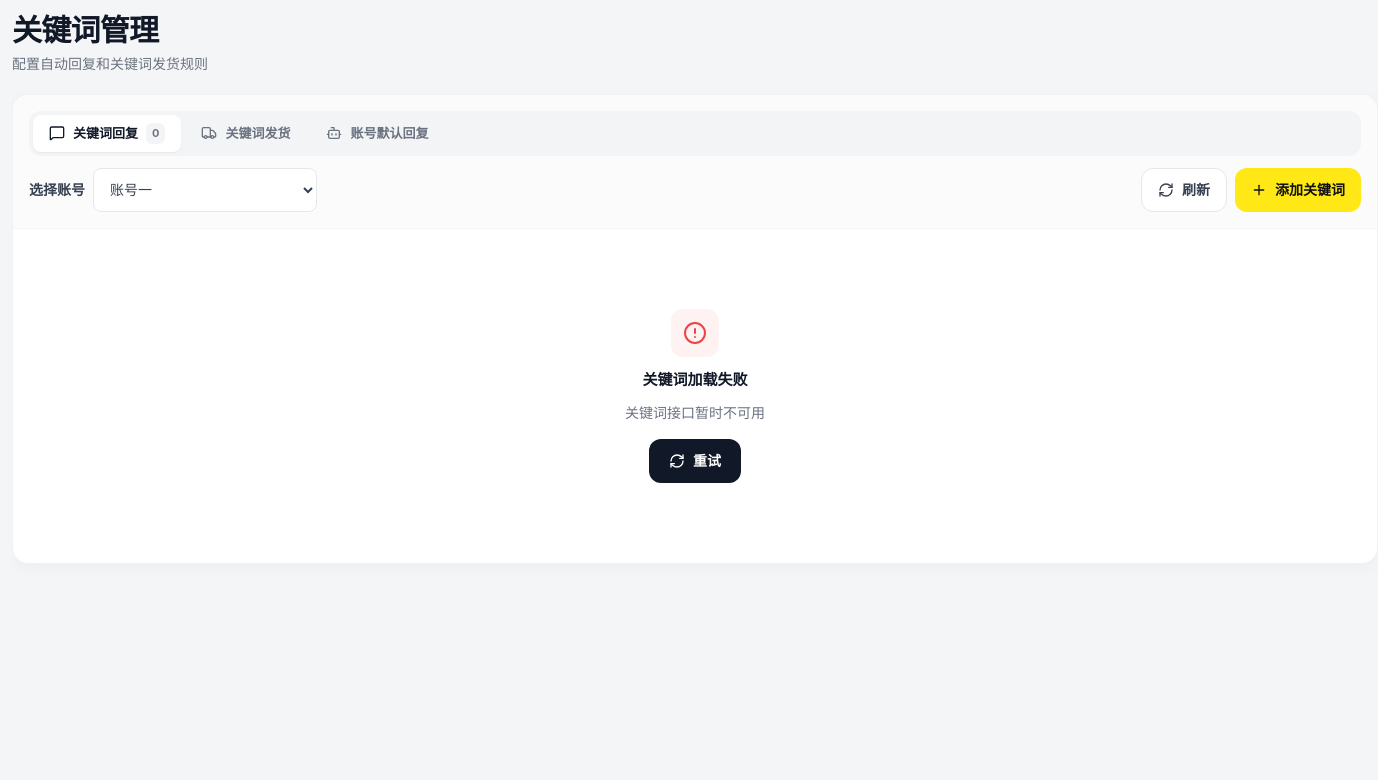
Test: Keywords 读取失败的可见错误态与竞态防护 › 点击重试会重新发起关键词请求并在成功后渲染数据
The image size is (1378, 780).
Expected: the text "关键词接口暂时不可用" is shown, [625,403,765,423]
Step 1. Click the button "重试" → (695, 461), box [649,439,741,483]
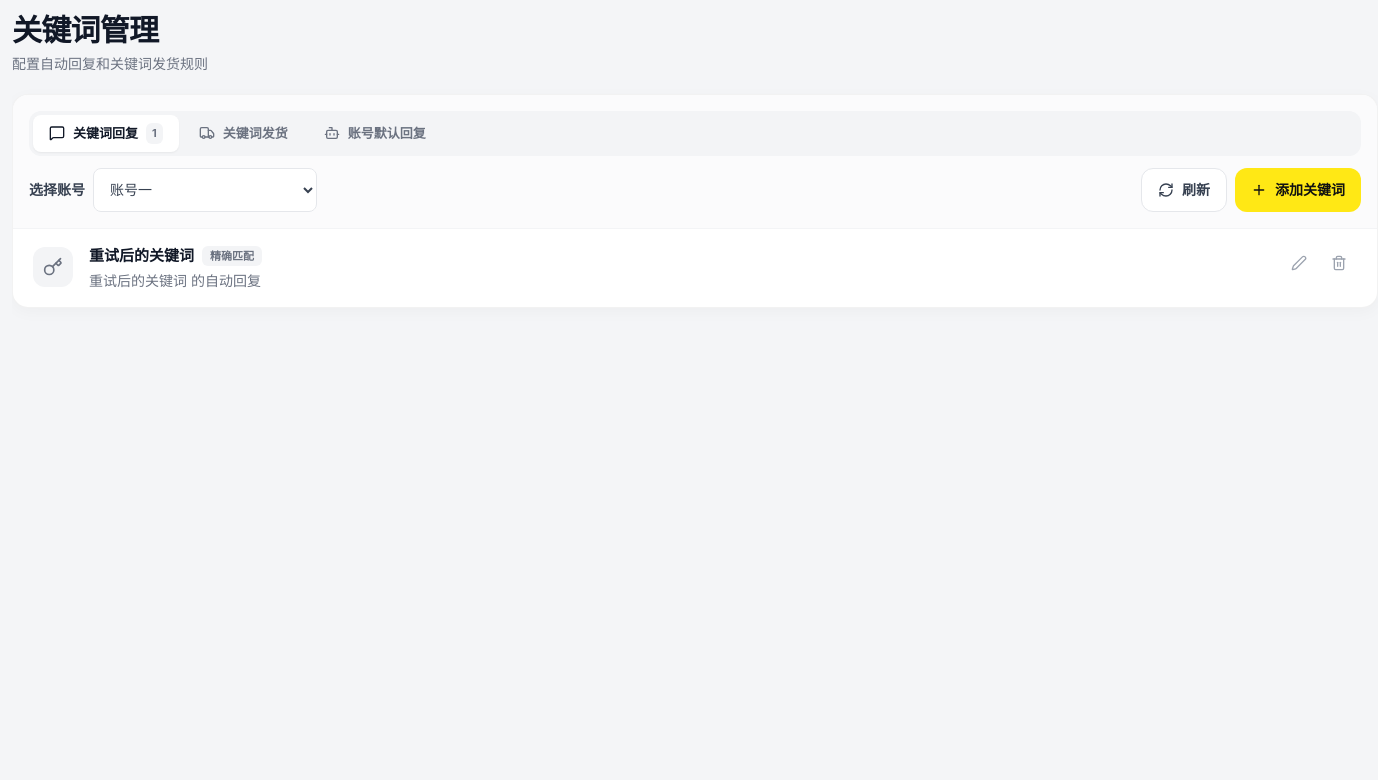
Result: the heading "重试后的关键词" is shown at [89,244,194,267]
Result: the message "关键词加载失败 关键词接口暂时不可用 重试" is gone
